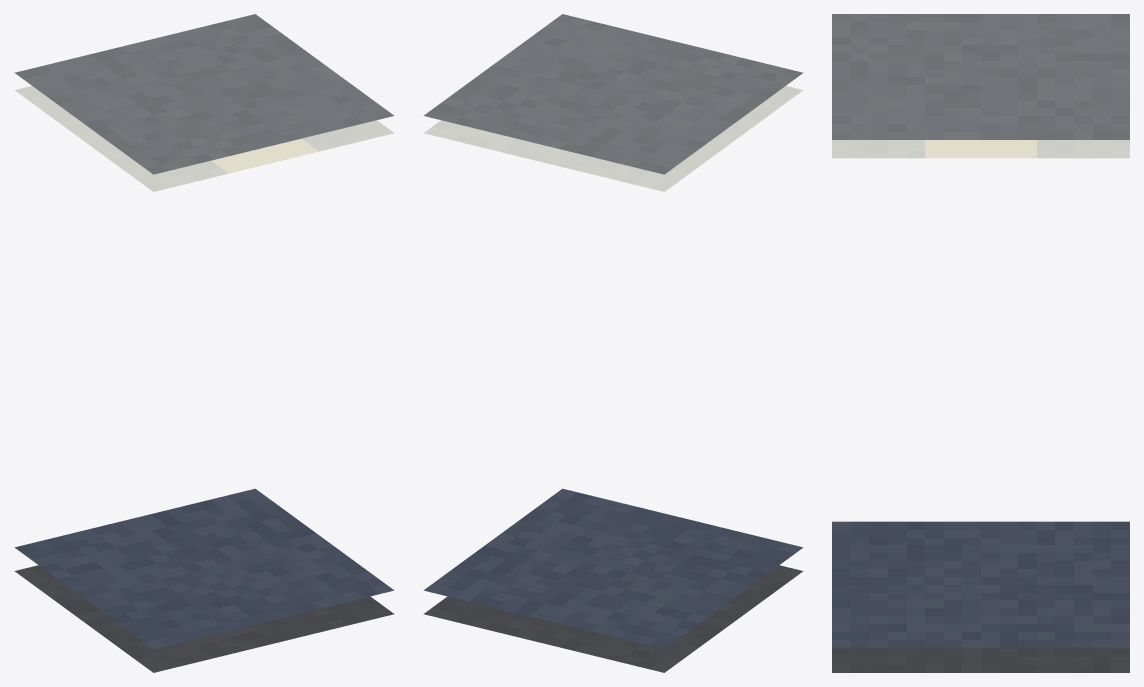
The model's file is airport_jet_bridge_corner_c5.obj.
3 renders of one model, left to right at view 1: azimuth 30°, elevation 25°; view 2: azimuth 150°, elevation 25°; view 3: azimuth 270°, elevation 25°, orthographic. The views are drawn at different scales.
Parts seen in each view (by area): view 1: airport_jet_bridge_corner_c5; view 2: airport_jet_bridge_corner_c5; view 3: airport_jet_bridge_corner_c5.
Boxes of the visible parts, x1,y1,x2,y2 form: airport_jet_bridge_corner_c5: (14,14,394,672); airport_jet_bridge_corner_c5: (423,14,803,672); airport_jet_bridge_corner_c5: (832,14,1129,672).
Size of the model in its own units: 1 by 1.98 by 1.
